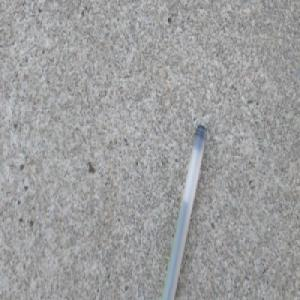Pen: (156, 122, 209, 300)
